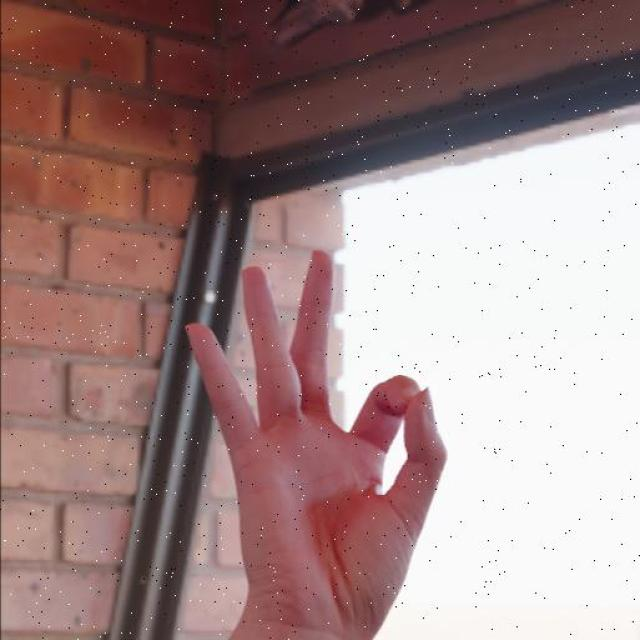F: (181, 245, 448, 629)
